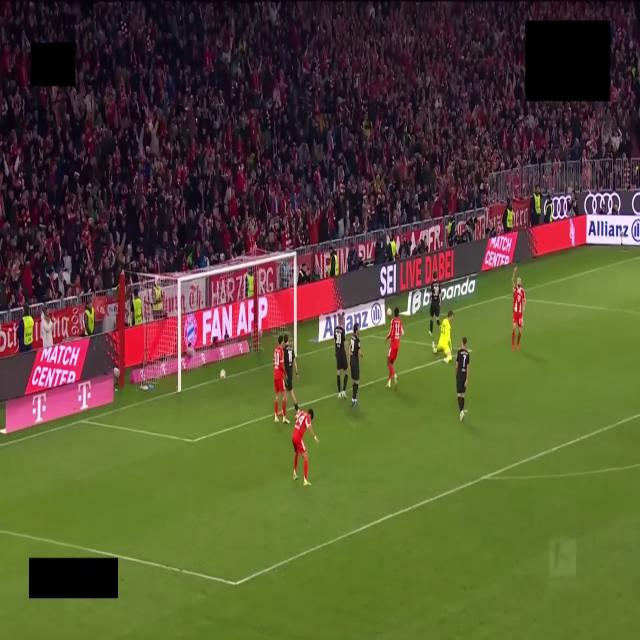ball: (220, 369, 226, 379)
player: (292, 408, 318, 486), (386, 308, 404, 387), (273, 336, 288, 423), (334, 313, 348, 398), (456, 337, 469, 421), (512, 267, 525, 350), (284, 335, 298, 412), (432, 311, 453, 362), (350, 323, 362, 407), (430, 272, 441, 335)
